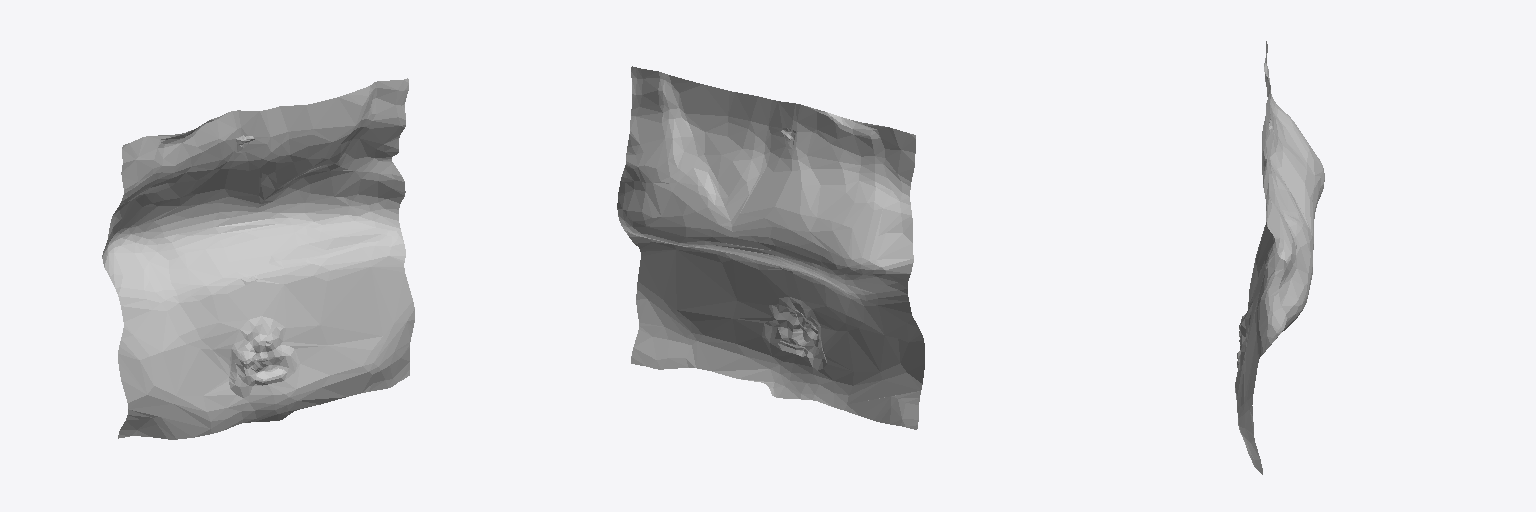
The model's file is terrain.obj.
The picture shows the model from 3 angles: view 1: azimuth 30°, elevation 25°; view 2: azimuth 150°, elevation 25°; view 3: azimuth 270°, elevation 25°; orthographic projection.
Parts seen in each view (by area): view 1: terrain; view 2: terrain; view 3: terrain.
Part boxes in pixels (left/top/right/bottom): terrain: left=102, top=78, right=414, bottom=439; terrain: left=617, top=66, right=924, bottom=429; terrain: left=1235, top=41, right=1324, bottom=474.
Size of the model in its own units: 422 by 418 by 110.